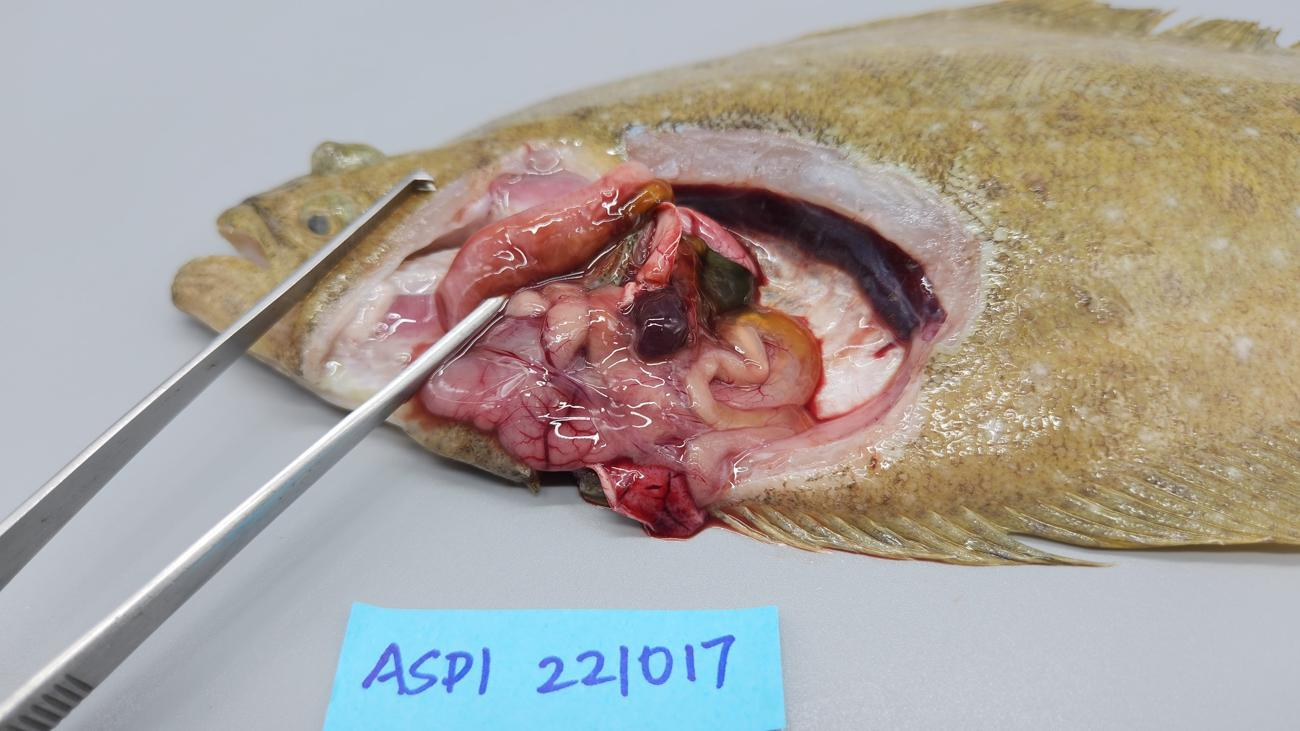SPINH: (505, 243, 547, 286)
